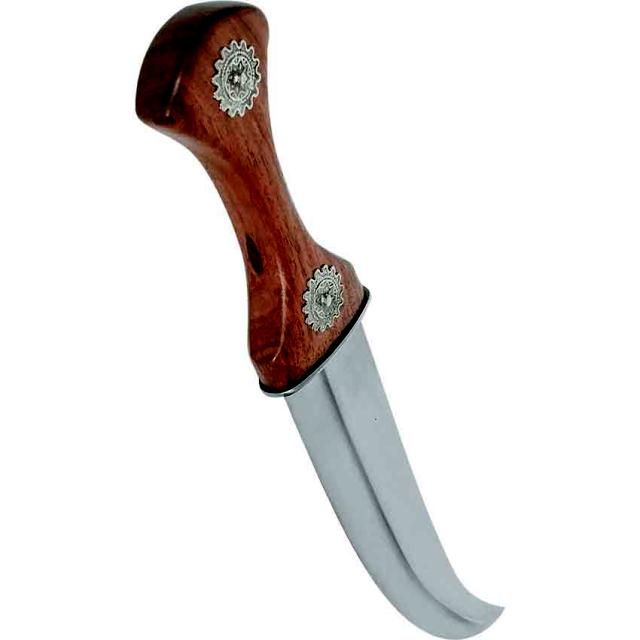short sword: (116, 0, 542, 640)
